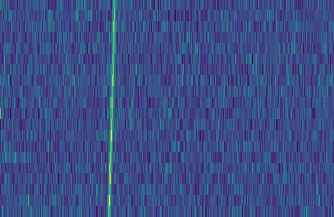signal: (102, 0, 117, 217)
